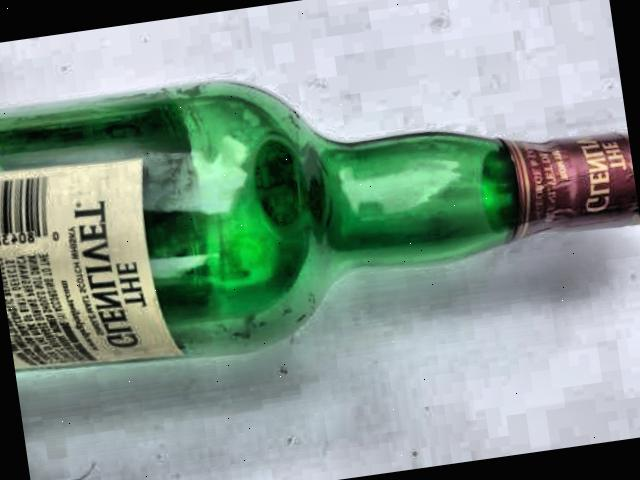Bottles: (0, 12, 640, 391)
